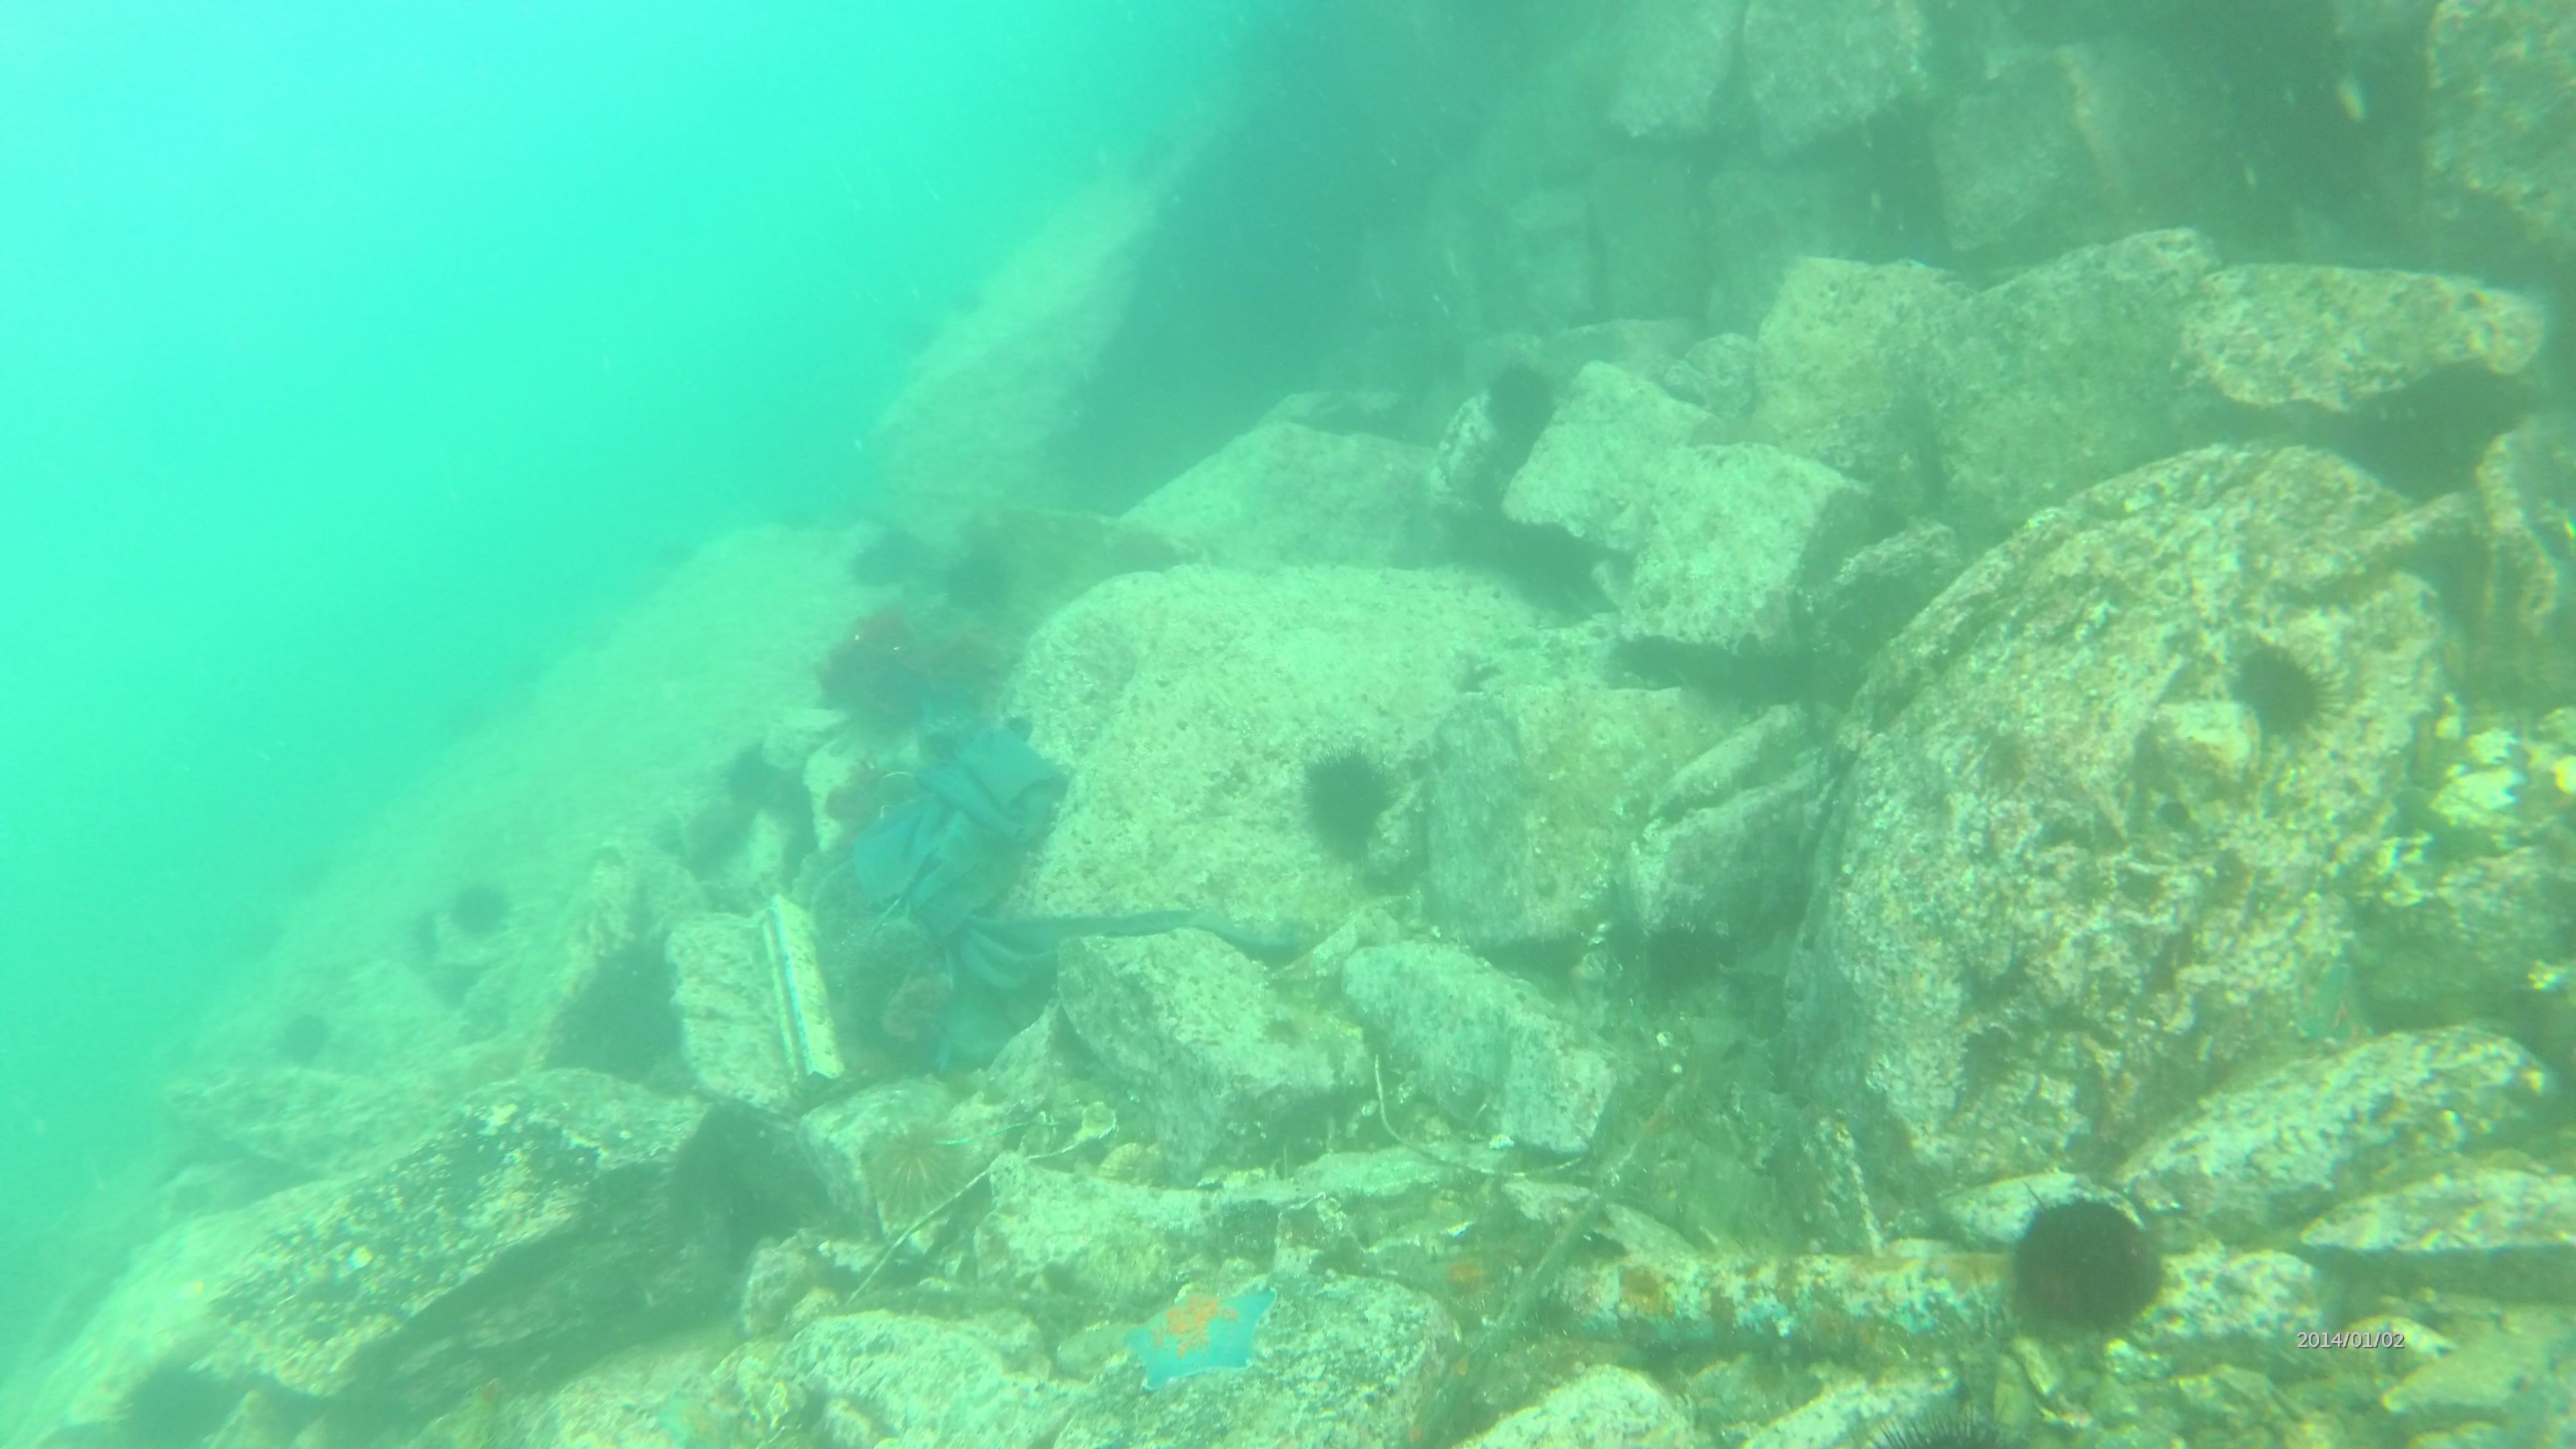echinus: (2012, 1200, 2166, 1338), (2224, 630, 2328, 745), (1306, 743, 1403, 844), (862, 1113, 964, 1208), (1479, 356, 1550, 433), (1111, 513, 1182, 591), (842, 525, 913, 602), (938, 545, 1008, 621), (446, 883, 513, 945), (288, 1010, 338, 1069), (888, 313, 939, 357), (1118, 150, 1169, 195), (504, 656, 556, 701), (287, 856, 338, 901), (239, 913, 290, 957), (941, 283, 991, 327), (1132, 129, 1182, 173), (642, 534, 692, 579), (619, 570, 669, 614), (584, 616, 633, 660), (433, 706, 483, 750)
starfish: (1120, 1276, 1277, 1396)
